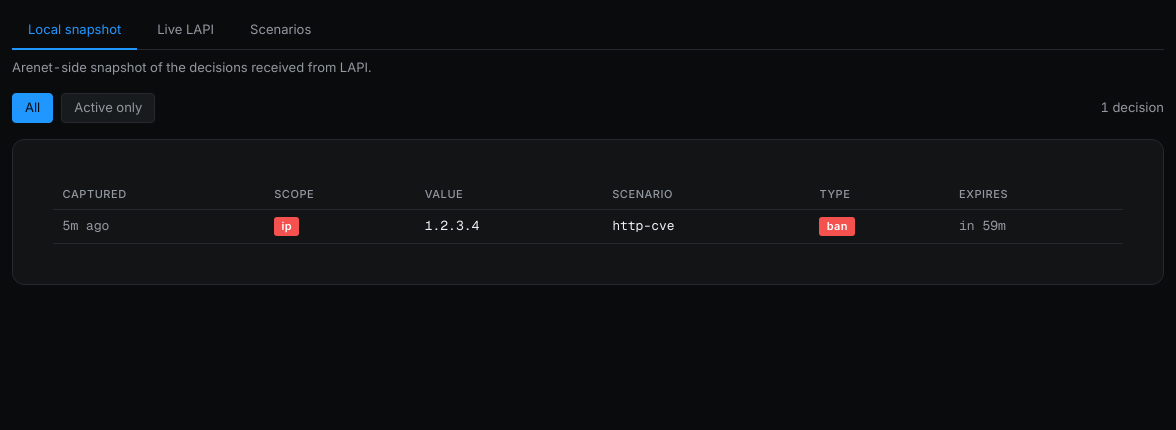
Scenario: CrowdSec decisions panel — Live LAPI tab › Locales excludes origin=manual (only crowdsec + cscli)
This screenshot has width=1176, height=430.
Click the tab with test id "tab-live" at (186, 31), box [141,12,230,50]
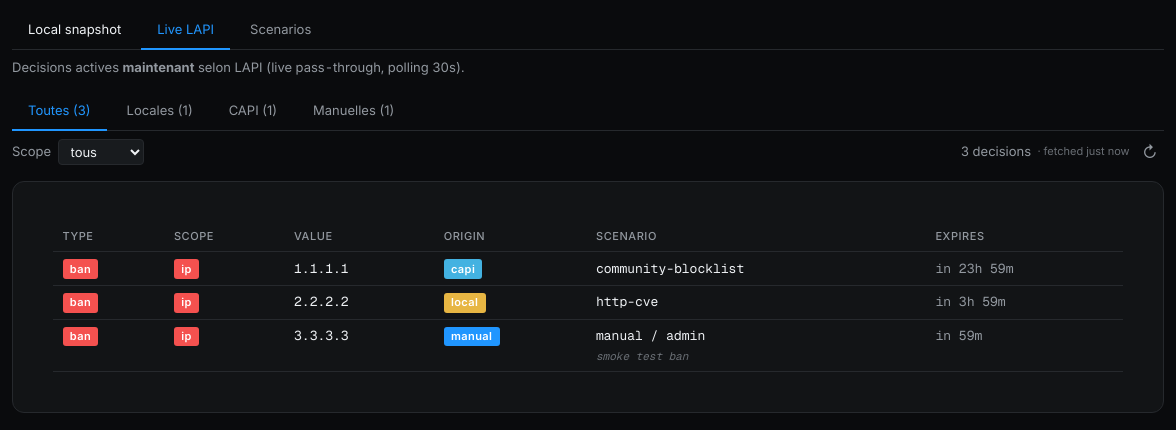
Expected: the tab with test id "live-tab-local" is shown
Click the tab with test id "live-tab-local" at (160, 112), box [111,93,209,130]
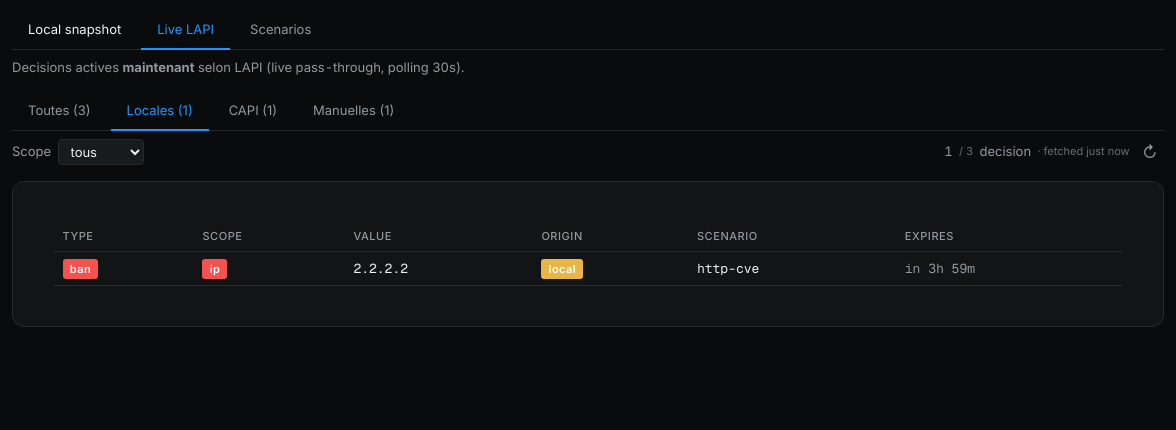
Expected: the text "2.2.2.2" is shown, [344,252,532,286]
Expected: the text "1.1.1.1" is gone
Expected: the text "3.3.3.3" is gone
